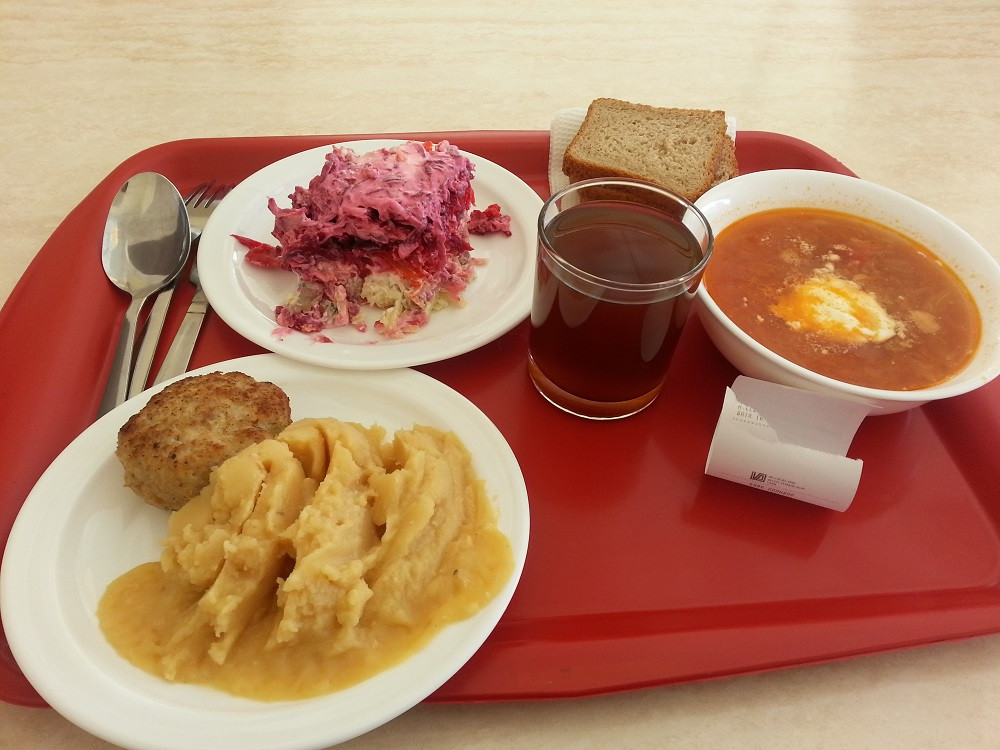bowl: (681, 171, 999, 416)
cutlery: (101, 169, 233, 439)
drink: (534, 180, 712, 430)
other: (705, 378, 880, 530), (564, 95, 738, 195)
plate: (1, 354, 519, 750), (203, 145, 536, 373)
